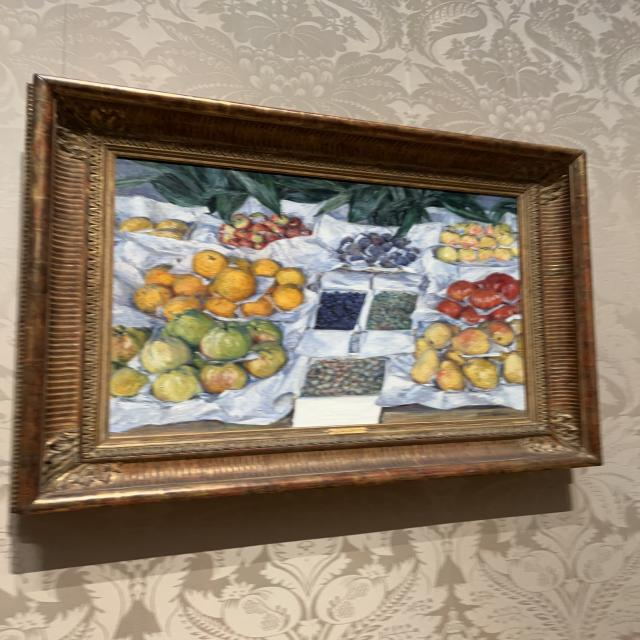fruits: (109, 159, 529, 436)
